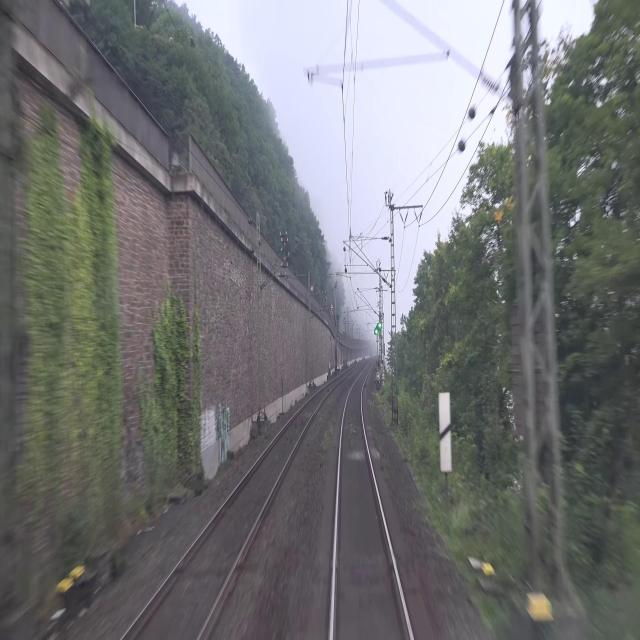rail-track: (125, 385, 331, 639), (334, 368, 409, 639)
